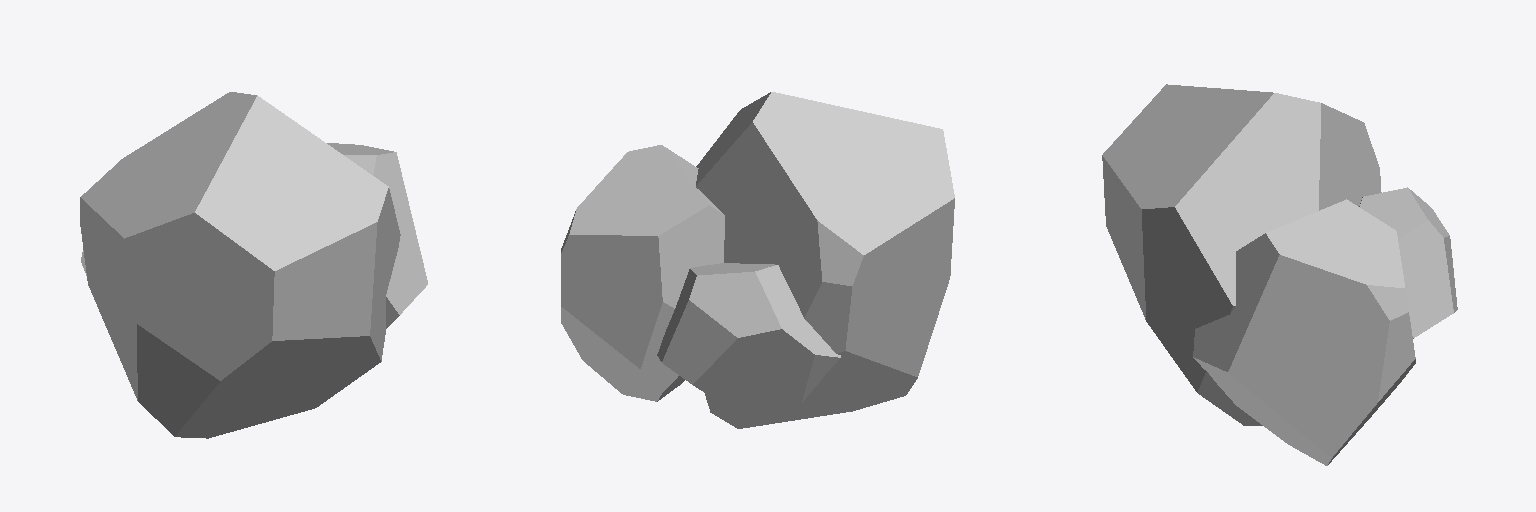
File: Rochas 1-2obj.obj
The picture shows the model from 3 angles: view 1: azimuth 30°, elevation 25°; view 2: azimuth 150°, elevation 25°; view 3: azimuth 270°, elevation 25°; orthographic projection.
Parts seen in each view (by area): view 1: Cube.001, Cube; view 2: Cube.001, Cube, Cube.002; view 3: Cube.001, Cube, Cube.002.
Part boxes in pixels (x1,y1,x2,y2): Cube.001: (80, 92, 400, 438); Cube: (327, 143, 427, 328); Cube.001: (696, 92, 954, 428); Cube: (561, 145, 724, 401); Cube.002: (657, 263, 840, 419); Cube.001: (1102, 84, 1381, 425); Cube: (1193, 199, 1415, 465); Cube.002: (1359, 187, 1457, 338).
Size of the model in its own units: 8.79 by 8.58 by 8.49.